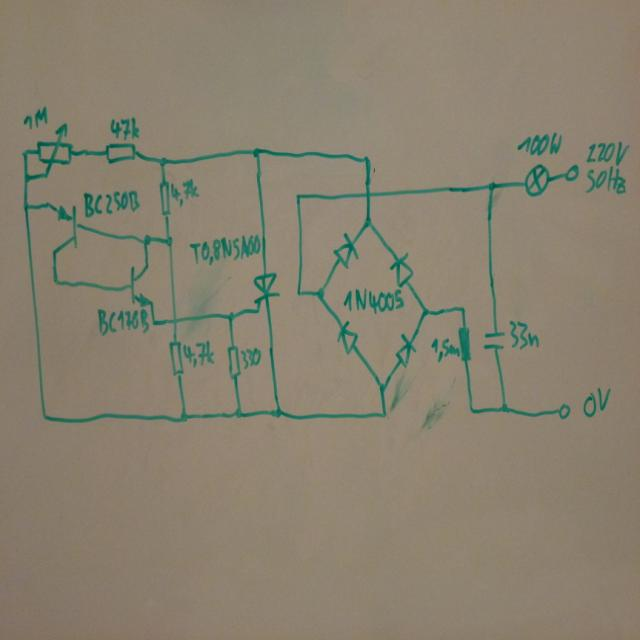capacitor: (480, 326, 505, 359)
crossover: (168, 311, 182, 326), (362, 187, 372, 200)
diode: (330, 230, 360, 269), (386, 250, 415, 287), (334, 318, 360, 357), (392, 331, 417, 369)
inductor: (456, 324, 472, 363)
junction: (174, 407, 191, 426), (269, 402, 285, 421), (361, 212, 375, 230), (18, 198, 32, 216), (417, 304, 433, 319), (313, 284, 326, 302), (374, 377, 388, 393), (358, 149, 372, 165), (249, 143, 263, 159), (484, 177, 497, 194), (223, 308, 236, 324), (139, 230, 151, 247), (156, 153, 169, 168), (497, 400, 510, 415), (377, 406, 389, 422), (232, 404, 244, 420), (163, 232, 175, 248), (38, 410, 51, 424), (457, 301, 470, 315), (292, 188, 304, 202), (20, 171, 32, 185), (466, 403, 477, 417), (20, 145, 30, 159), (49, 274, 60, 286), (293, 286, 303, 298), (149, 316, 157, 327)
resistor: (34, 122, 75, 182), (102, 138, 140, 165), (166, 336, 184, 381), (225, 341, 242, 382), (156, 177, 172, 219)
terminal: (562, 160, 581, 185), (554, 399, 573, 422)
text: (187, 232, 260, 265), (80, 187, 140, 220), (94, 303, 150, 338), (341, 287, 404, 313), (515, 129, 563, 159), (583, 165, 627, 197), (584, 139, 630, 165), (507, 317, 542, 351), (580, 385, 611, 418), (181, 338, 215, 367), (169, 177, 198, 207), (107, 115, 140, 141), (430, 335, 459, 362), (21, 105, 47, 130), (239, 345, 262, 370)
thyristor: (248, 267, 284, 316)
transistor: (42, 196, 80, 258), (127, 260, 157, 308)
